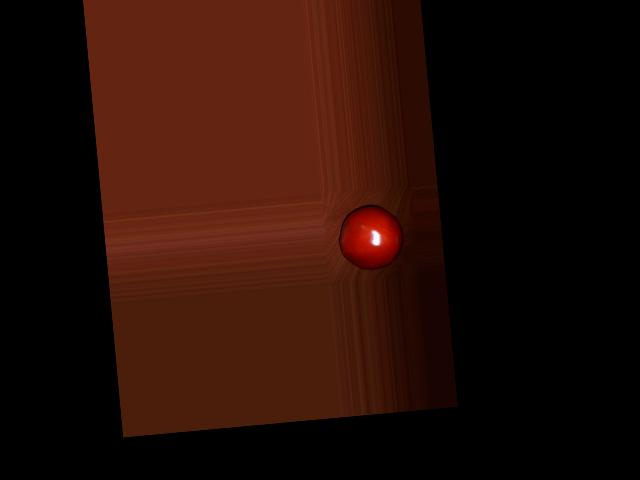tomato: (336, 202, 406, 273)
